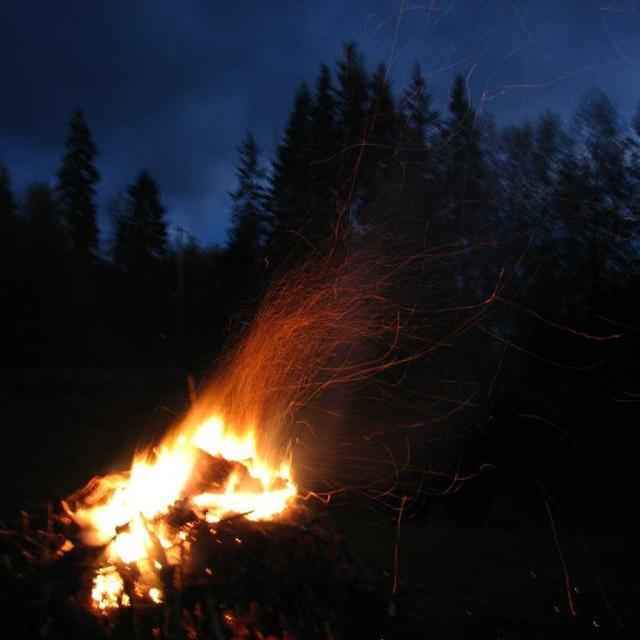Fire: (80, 384, 290, 604)
